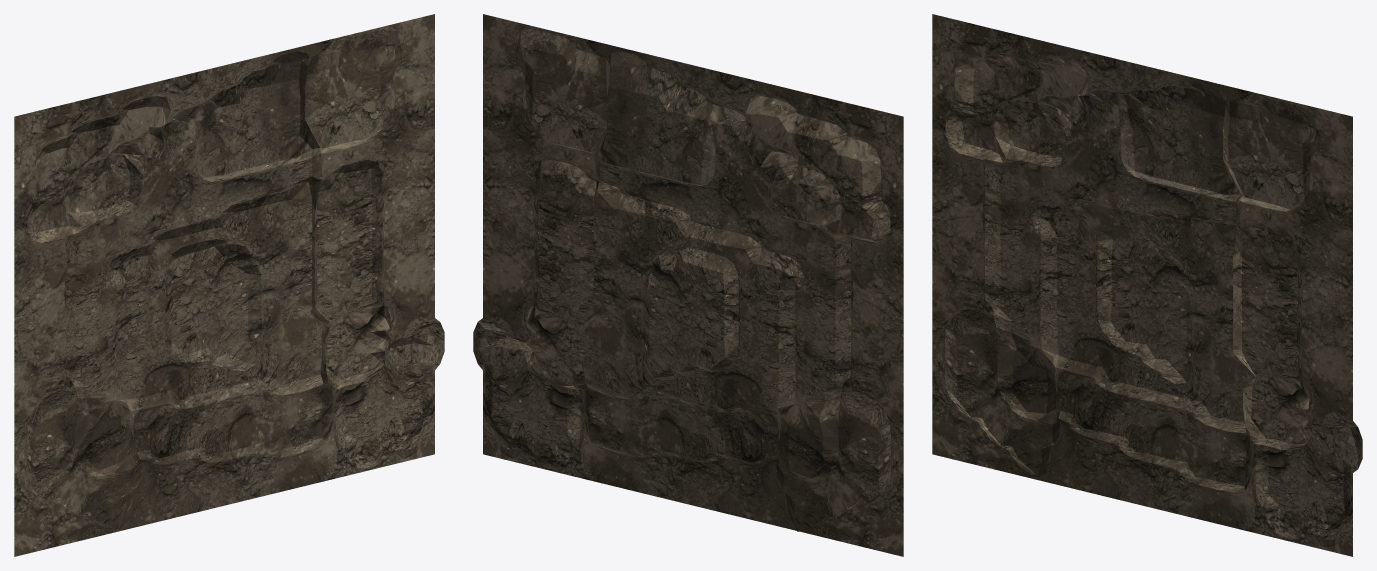
File: brown_mud.obj
3 renders of one model, left to right at view 1: azimuth 30°, elevation 25°; view 2: azimuth 150°, elevation 25°; view 3: azimuth 330°, elevation 25°, orthographic.
Visible parts, largest first — view 1: Plane; view 2: Plane; view 3: Plane.
Boxes of the visible parts, x1,y1,x2,y2 form: Plane: (14,14,444,556); Plane: (473,14,903,556); Plane: (932,14,1362,556).
Size of the model in its own units: 205 by 200 by 8.43.
Materials: 1 (1 with a texture image).
